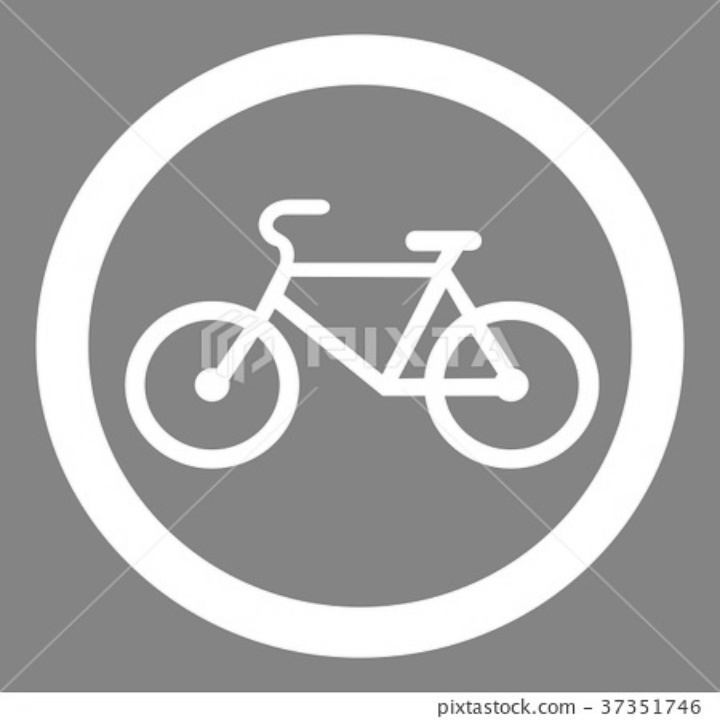bicycle: (105, 167, 639, 503)
